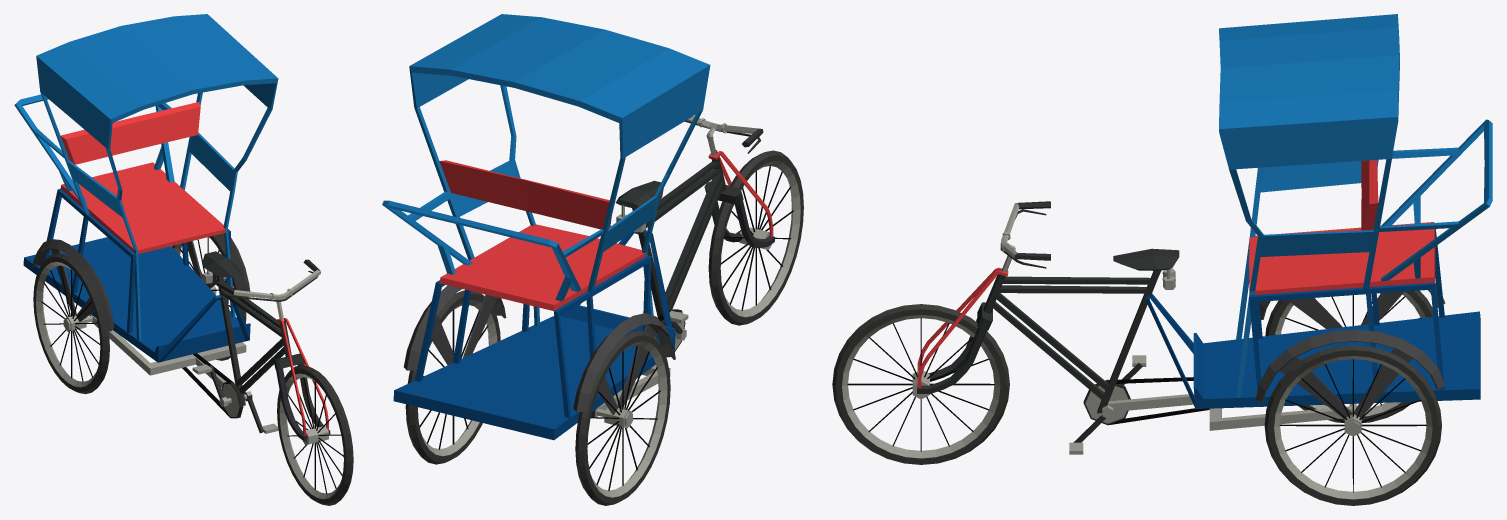
Rendered from delh_prop_04.fbx.
3 renders of one model, left to right at view 1: azimuth 30°, elevation 25°; view 2: azimuth 150°, elevation 25°; view 3: azimuth 270°, elevation 25°, orthographic. The views are drawn at different scales.
Visible parts, largest first — view 1: delh_prop_04; view 2: delh_prop_04; view 3: delh_prop_04.
Part boxes in pixels (bbox=[...]): delh_prop_04: bbox=[14, 14, 353, 505]; delh_prop_04: bbox=[382, 14, 803, 505]; delh_prop_04: bbox=[832, 14, 1492, 505].
Bounding box in the file's own units: 113 × 209 × 305.
